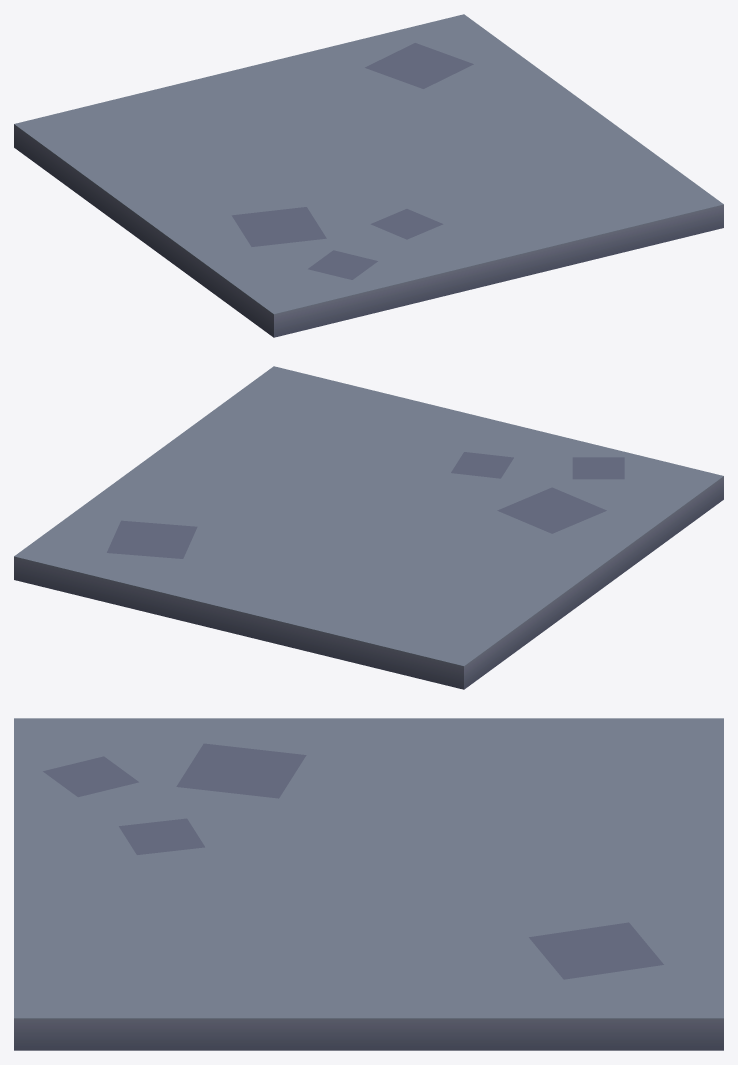
The model's file is pavement.glb.
3 renders of one model, top to bottom at view 1: azimuth 30°, elevation 25°; view 2: azimuth 150°, elevation 25°; view 3: azimuth 270°, elevation 25°, orthographic. The views are drawn at different scales.
Parts seen in each view (by area): view 1: pavement; view 2: pavement; view 3: pavement.
Part boxes in pixels (x1,y1,x2,y2): pavement: (14, 14, 723, 337); pavement: (14, 366, 723, 689); pavement: (14, 718, 723, 1050).
Size of the model in its own units: 1 by 0.0599 by 1.
1 material, 1 textured.
